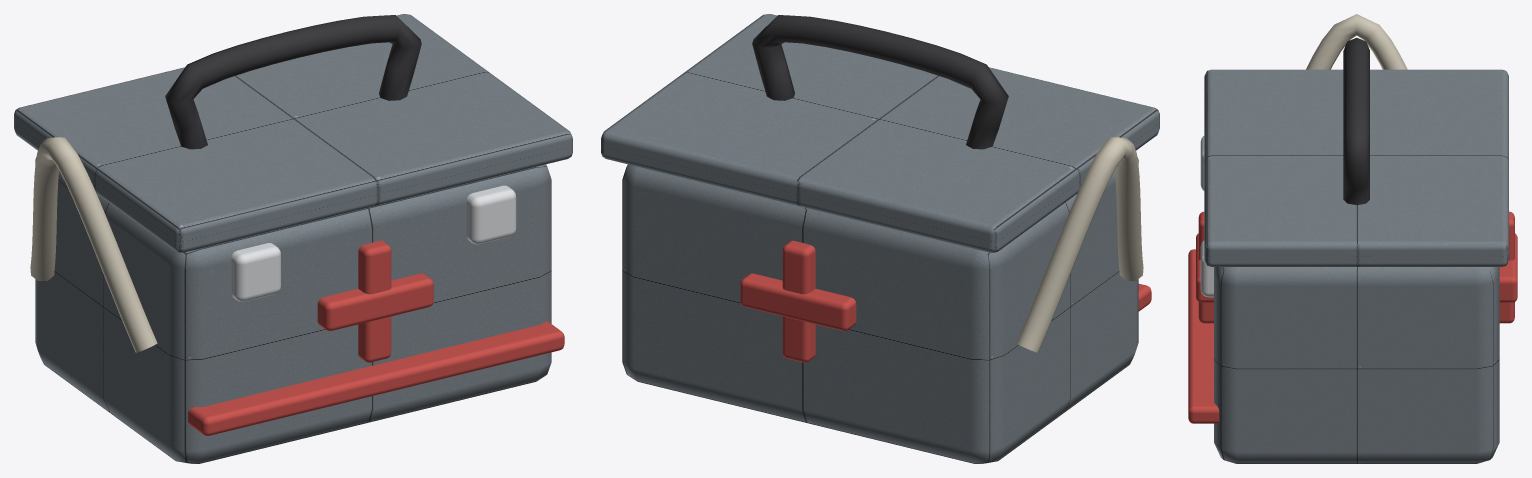
File: arctic-station-fps-kit-medical-kit-d5840508__28529.glb
The picture shows the model from 3 angles, left to right: view 1: azimuth 30°, elevation 25°; view 2: azimuth 150°, elevation 25°; view 3: azimuth 270°, elevation 25°; orthographic projection. The views are drawn at different scales.
Parts seen in each view (by area): view 1: medical-kit; view 2: medical-kit; view 3: medical-kit.
Boxes of the visible parts, left/top/right/bottom form: medical-kit: left=14, top=14, right=572, bottom=463; medical-kit: left=601, top=14, right=1159, bottom=463; medical-kit: left=1188, top=14, right=1517, bottom=463.
Size of the model in its own units: 0.4919 by 0.3627 by 0.346.
5 materials, 1 textured.
